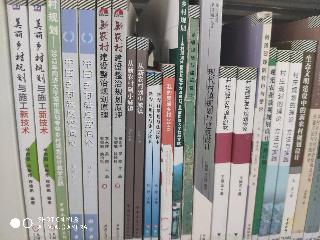book-spine: (7, 0, 45, 240), (190, 0, 222, 240), (278, 40, 316, 240), (29, 1, 60, 240), (268, 51, 303, 240), (244, 12, 272, 239), (257, 50, 290, 240), (288, 48, 320, 240), (60, 1, 84, 240), (225, 67, 256, 240), (48, 1, 70, 240), (210, 66, 237, 240), (252, 47, 276, 240), (79, 2, 98, 239), (171, 0, 189, 240), (109, 2, 127, 240), (182, 6, 199, 239), (131, 38, 148, 240), (98, 2, 111, 240), (161, 65, 174, 240), (124, 37, 135, 239), (152, 73, 161, 239), (145, 73, 153, 239)
